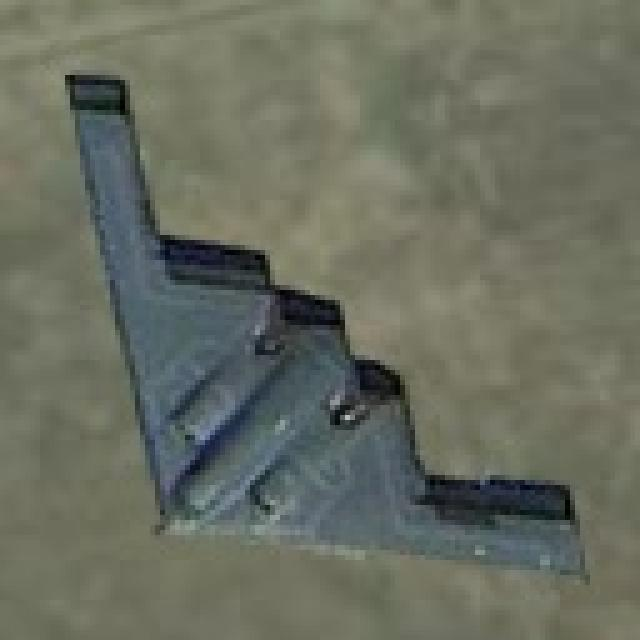B-2_TopDown: (55, 65, 590, 585)
